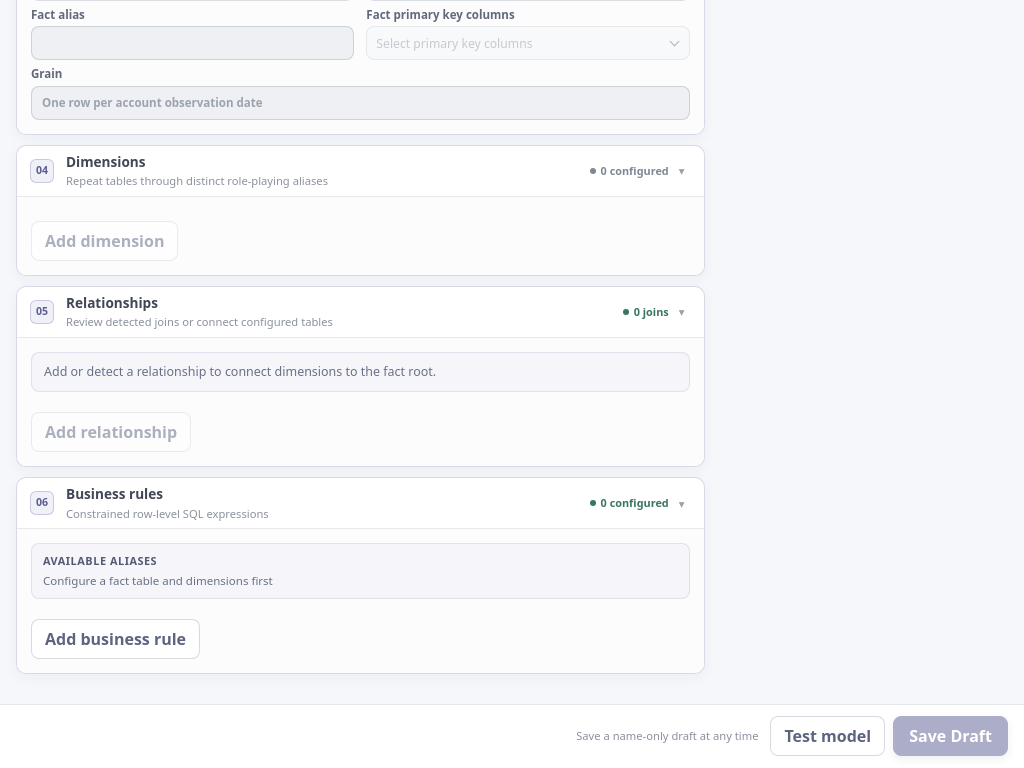
it: DataModelBuilder › invalidates draft-only test results after the visible definition changes
The image size is (1024, 768).
(page scrolled)
Click the button "Test model" at point(828, 736), box top-left (770, 716), bottom-right (885, 756)
(page scrolled)
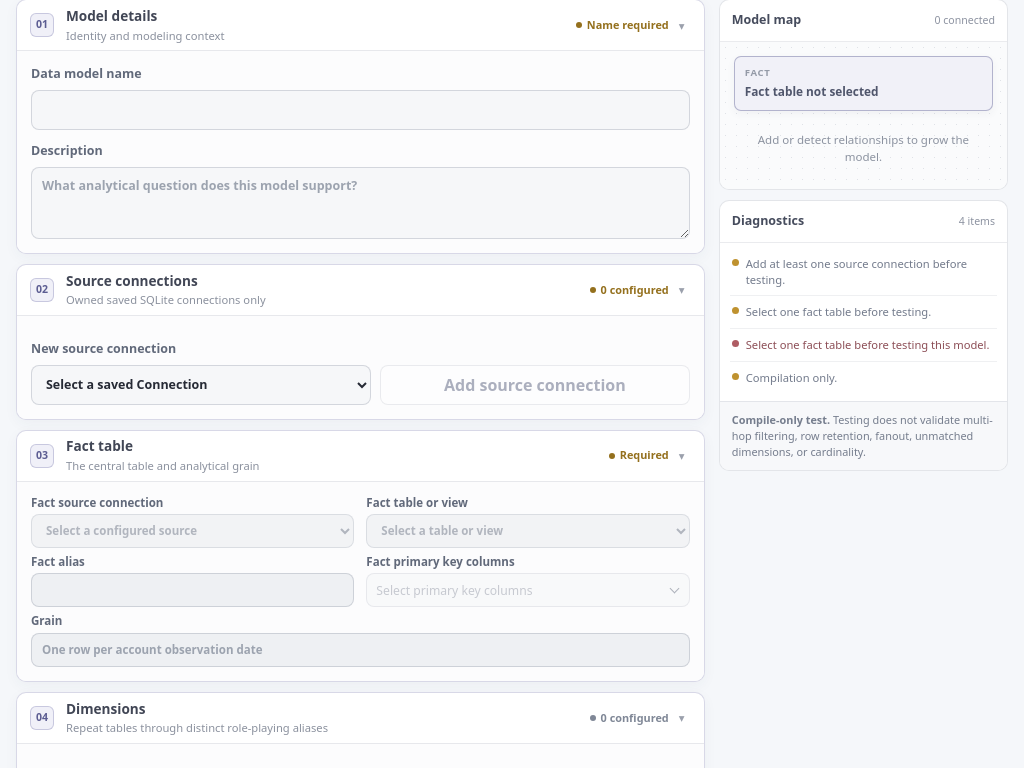
Select "Portfolio" in the dropdown labelled "New source connection" at point(201, 384), box top-left (31, 364), bottom-right (371, 404)
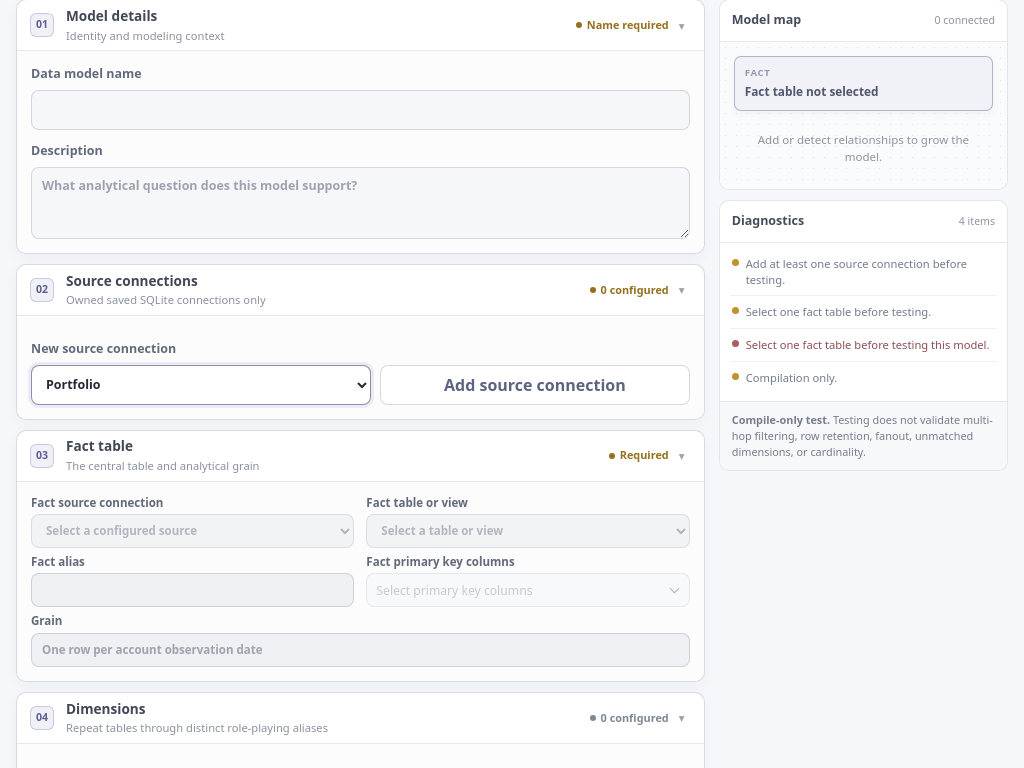
Click the button "Add source connection" at point(535, 384), box top-left (380, 364), bottom-right (690, 404)
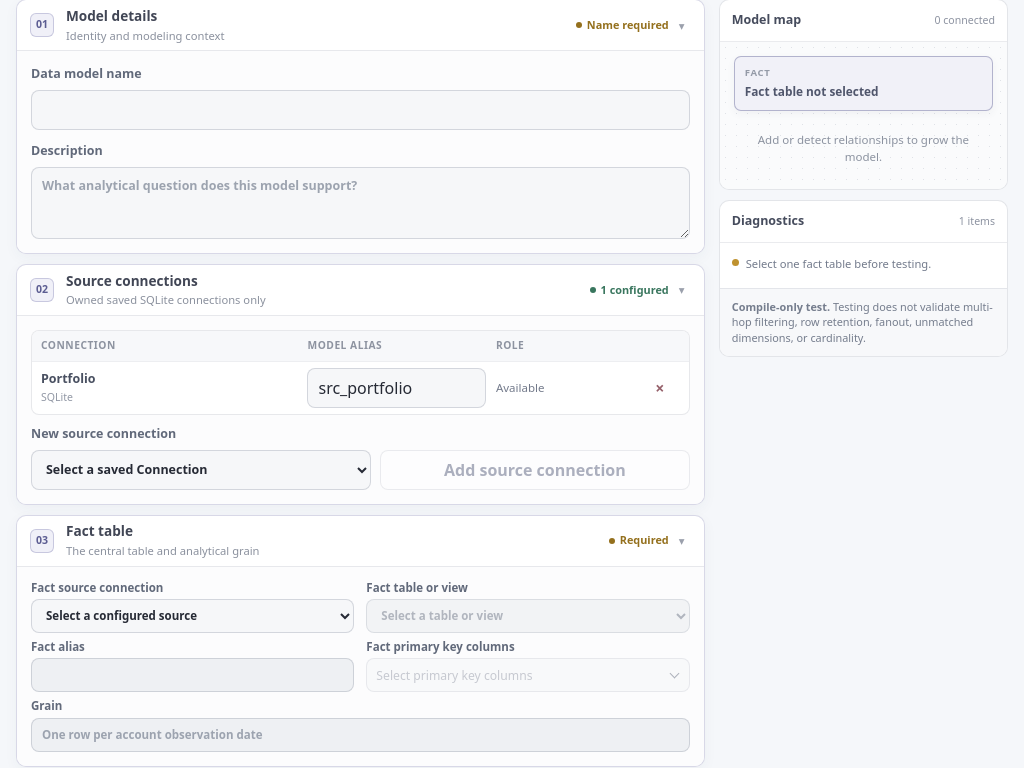
Result: the text "Select one fact table before testing this model." is gone
